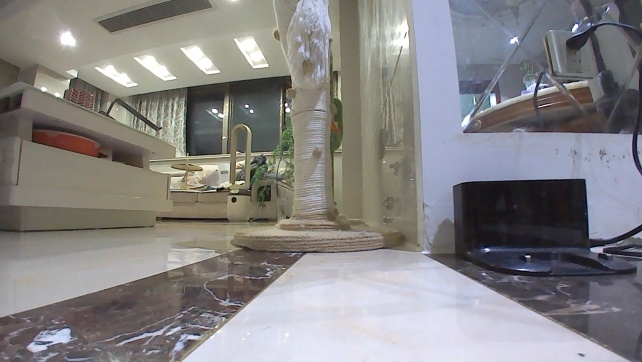wire: (573, 15, 641, 265)
